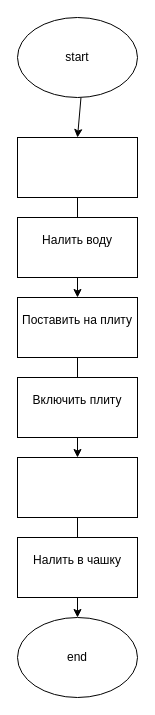
Image size: 155x715. Some labels were removed from this diagram. Each missing label, with the centre of its shape:
bring teapot: (77,167)
Дождаться закипания: (77,487)
